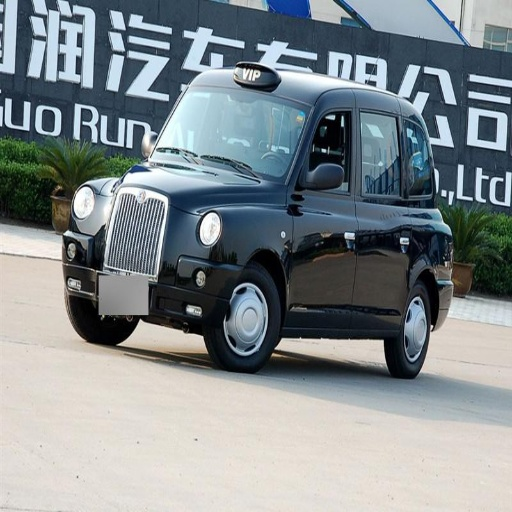back_bumper: (114, 235, 211, 295)
front_bumper: (64, 235, 153, 314)
front_glass: (156, 89, 307, 178)
trunk: (107, 189, 219, 271)
